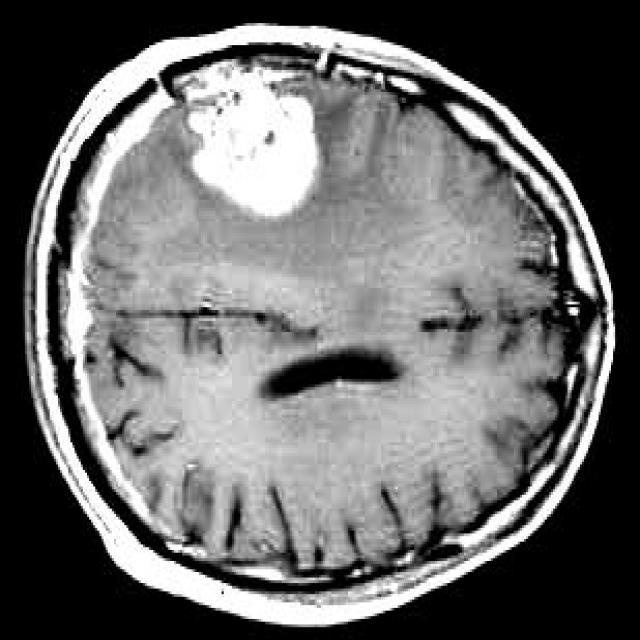tumor: (180, 63, 321, 218)
